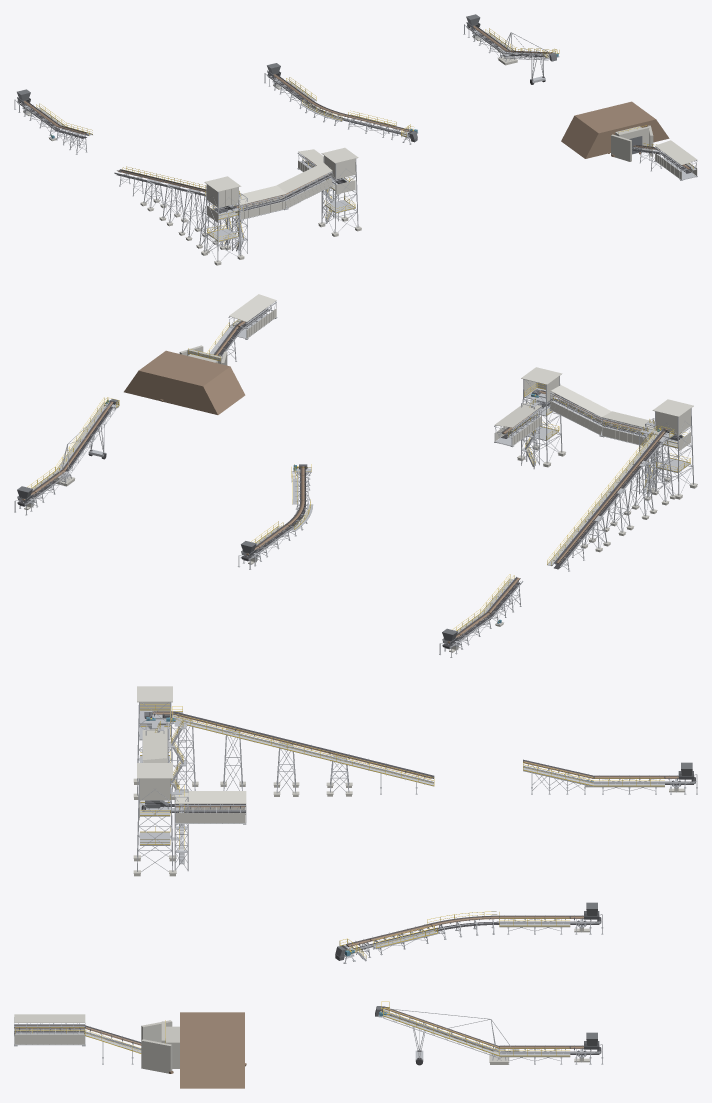
The model's file is ore-processing-and-haulage-plant-belt-connector-cases-e11f97e2.glb.
3 views of the same model, one above another, from view 1: azimuth 30°, elevation 25°; view 2: azimuth 150°, elevation 25°; view 3: azimuth 270°, elevation 25° (orthographic). The views are drawn at different scales.
Visible parts, largest first — view 1: 017-reclaim-tunnel-entrance/2, 008-silo-feed-conveyor/0, 009-conveyor-transfer-tower/0, 012-conveyor-transfer-tower/0, 011-conveyor-gallery-incline/5, 012-conveyor-transfer-tower/7, 017-reclaim-tunnel-entrance/0, 010-conveyor-gallery-bridge/5, 009-conveyor-transfer-tower/7, 018-conveyor-gallery-bridge/5, 016-radial-stacker/boom, 007-conveyor-incline-12m/0 (+1 smaller); view 2: 017-reclaim-tunnel-entrance/2, 008-silo-feed-conveyor/0, 012-conveyor-transfer-tower/0, 009-conveyor-transfer-tower/0, 011-conveyor-gallery-incline/5, 009-conveyor-transfer-tower/7, 016-radial-stacker/boom, 008-silo-feed-conveyor/1, 018-conveyor-gallery-bridge/5, 010-conveyor-gallery-bridge/5, 013-conveyor-gallery-bridge/5, 012-conveyor-transfer-tower/7 (+3 smaller); view 3: 017-reclaim-tunnel-entrance/2, 008-silo-feed-conveyor/0, 012-conveyor-transfer-tower/0, 013-conveyor-gallery-bridge/5, 017-reclaim-tunnel-entrance/0, 018-conveyor-gallery-bridge/5, 008-silo-feed-conveyor/5, 016-radial-stacker/boom, 012-conveyor-transfer-tower/7, 008-silo-feed-conveyor/1, 009-conveyor-transfer-tower/0, 009-conveyor-transfer-tower/7 (+4 smaller).
Boxes of the visible parts, bbox=[...] form: 017-reclaim-tunnel-entrance/2: bbox=[561, 101, 669, 158]; 008-silo-feed-conveyor/0: bbox=[114, 171, 236, 250]; 009-conveyor-transfer-tower/0: bbox=[204, 184, 247, 261]; 012-conveyor-transfer-tower/0: bbox=[321, 156, 358, 233]; 011-conveyor-gallery-incline/5: bbox=[277, 162, 332, 207]; 012-conveyor-transfer-tower/7: bbox=[321, 147, 358, 194]; 017-reclaim-tunnel-entrance/0: bbox=[611, 125, 653, 161]; 010-conveyor-gallery-bridge/5: bbox=[233, 185, 286, 219]; 009-conveyor-transfer-tower/7: bbox=[204, 176, 241, 222]; 018-conveyor-gallery-bridge/5: bbox=[655, 140, 697, 179]; 016-radial-stacker/boom: bbox=[497, 32, 559, 83]; 007-conveyor-incline-12m/0: bbox=[50, 128, 92, 154]; 017-reclaim-tunnel-entrance/2: bbox=[124, 326, 245, 414]; 008-silo-feed-conveyor/0: bbox=[547, 426, 673, 571]; 012-conveyor-transfer-tower/0: bbox=[521, 376, 562, 469]; 009-conveyor-transfer-tower/0: bbox=[645, 408, 693, 495]; 011-conveyor-gallery-incline/5: bbox=[549, 385, 611, 434]; 009-conveyor-transfer-tower/7: bbox=[652, 399, 693, 451]; 016-radial-stacker/boom: bbox=[52, 401, 119, 478]; 008-silo-feed-conveyor/1: bbox=[554, 429, 669, 569]; 018-conveyor-gallery-bridge/5: bbox=[229, 294, 276, 338]; 010-conveyor-gallery-bridge/5: bbox=[602, 411, 655, 445]; 013-conveyor-gallery-bridge/5: bbox=[494, 403, 541, 445]; 012-conveyor-transfer-tower/7: bbox=[521, 367, 562, 403]; 017-reclaim-tunnel-entrance/2: bbox=[86, 1012, 246, 1088]; 008-silo-feed-conveyor/0: bbox=[168, 712, 433, 801]; 012-conveyor-transfer-tower/0: bbox=[137, 778, 188, 871]; 013-conveyor-gallery-bridge/5: bbox=[175, 791, 246, 823]; 017-reclaim-tunnel-entrance/0: bbox=[141, 1020, 179, 1073]; 018-conveyor-gallery-bridge/5: bbox=[14, 1014, 85, 1044]; 008-silo-feed-conveyor/5: bbox=[171, 706, 434, 789]; 016-radial-stacker/boom: bbox=[378, 1007, 519, 1061]; 012-conveyor-transfer-tower/7: bbox=[137, 763, 172, 820]; 008-silo-feed-conveyor/1: bbox=[171, 711, 434, 779]; 009-conveyor-transfer-tower/0: bbox=[137, 702, 173, 795]; 009-conveyor-transfer-tower/7: bbox=[137, 686, 172, 725].
Size of the model in its own units: 123 by 18.1 by 116.
